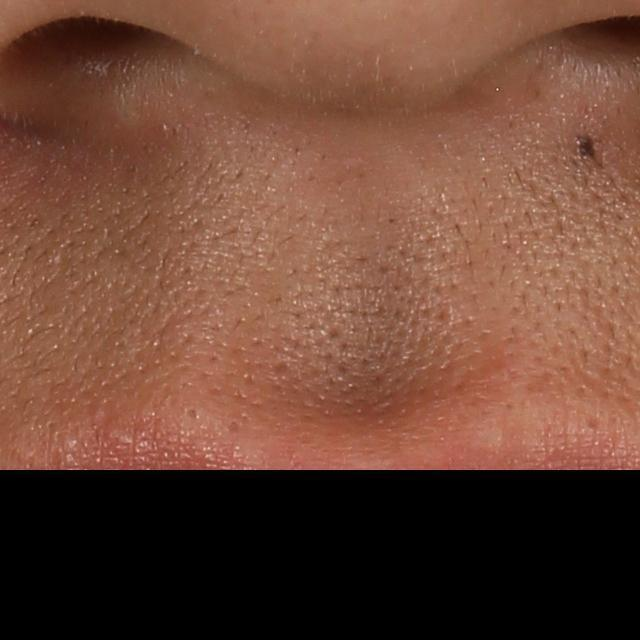comedo: (223, 414, 246, 435), (178, 404, 199, 420)
nevus: (571, 136, 596, 164)
